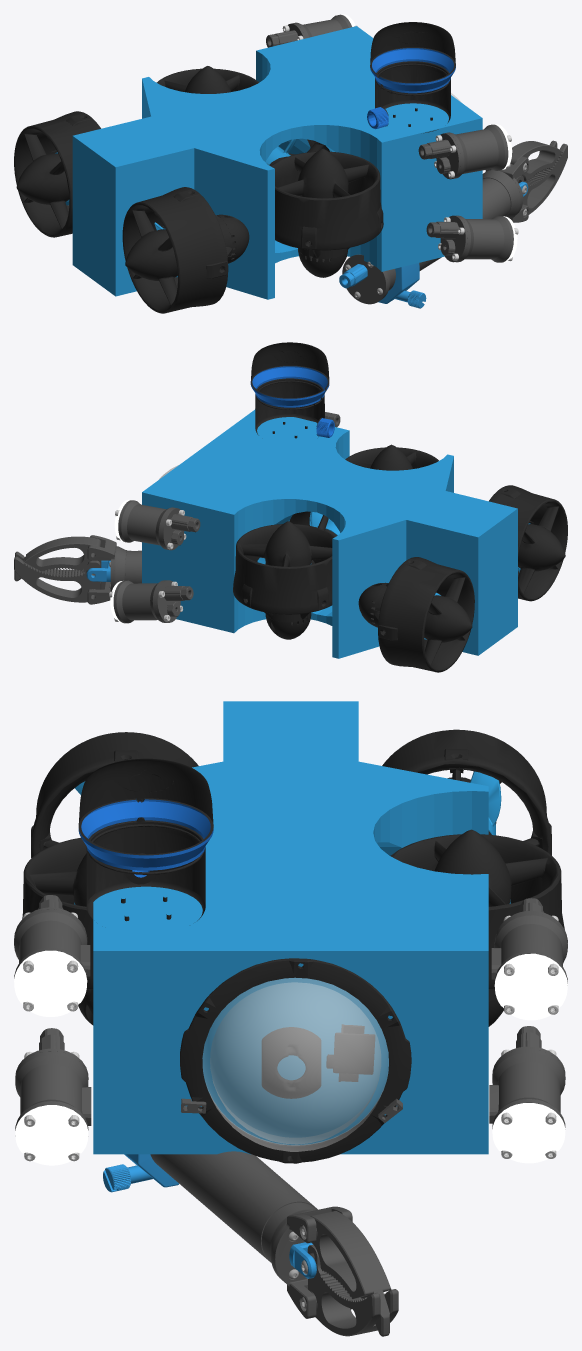
File: SIMPLEROV_5.glb
The picture shows the model from 3 angles, top to bottom: view 1: azimuth 30°, elevation 25°; view 2: azimuth 150°, elevation 25°; view 3: azimuth 270°, elevation 25°; orthographic projection. The views are drawn at different scales.
Visible parts, largest first — view 1: Cube, motor3, motor6.standard, LUMEN-ASM-R3-PUBLIC.049, NEWTON_GRIPPER, PING360.001, motor4, motor6.standard.001, motor6.standard.002; view 2: Cube, motor4, motor6.standard.001, LUMEN-ASM-R3-PUBLIC.049, NEWTON_GRIPPER, PING360.001, motor3, motor6.standard, motor6.standard.002; view 3: Cube, LUMEN-ASM-R3-PUBLIC.049, BROV2-HEAVY-ASM-BROV2-HEAVY-R1.065, NEWTON_GRIPPER, PING360.001, BROV2-HEAVY-ASM-BROV2-HEAVY-R1.066, motor6.standard.001, motor4, motor3, BROV2-HEAVY-ASM-BROV2-HEAVY-R1.001, motor6.standard.
Boxes of the visible parts, bbox=[...] form: Cube: bbox=[72, 26, 482, 299]; motor3: bbox=[122, 187, 249, 313]; motor6.standard: bbox=[271, 148, 383, 277]; LUMEN-ASM-R3-PUBLIC.049: bbox=[266, 14, 518, 262]; NEWTON_GRIPPER: bbox=[339, 140, 567, 308]; PING360.001: bbox=[367, 22, 455, 133]; motor4: bbox=[14, 111, 100, 237]; motor6.standard.001: bbox=[156, 66, 258, 93]; motor6.standard.002: bbox=[265, 139, 329, 166]; Cube: bbox=[142, 409, 517, 658]; motor4: bbox=[358, 557, 474, 672]; motor6.standard.001: bbox=[233, 521, 335, 639]; LUMEN-ASM-R3-PUBLIC.049: bbox=[109, 412, 340, 623]; NEWTON_GRIPPER: bbox=[14, 535, 141, 604]; PING360.001: bbox=[250, 342, 334, 438]; motor3: bbox=[489, 485, 567, 601]; motor6.standard: bbox=[345, 444, 438, 470]; motor6.standard.002: bbox=[289, 511, 340, 564]; Cube: bbox=[93, 701, 488, 1154]; LUMEN-ASM-R3-PUBLIC.049: bbox=[14, 895, 567, 1165]; BROV2-HEAVY-ASM-BROV2-HEAVY-R1.065: bbox=[202, 978, 388, 1151]; NEWTON_GRIPPER: bbox=[103, 1151, 398, 1336]; PING360.001: bbox=[78, 758, 213, 921]; BROV2-HEAVY-ASM-BROV2-HEAVY-R1.066: bbox=[180, 958, 411, 1163]; motor6.standard.001: bbox=[391, 829, 564, 1026]; motor4: bbox=[382, 729, 551, 855]; motor3: bbox=[31, 732, 198, 857]; BROV2-HEAVY-ASM-BROV2-HEAVY-R1.001: bbox=[262, 1024, 374, 1098]; motor6.standard: bbox=[22, 837, 93, 1025].
Bounding box in the file's own units: 0.4815 × 0.2309 × 0.2801.
